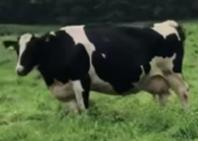cow: (2, 20, 190, 116)
